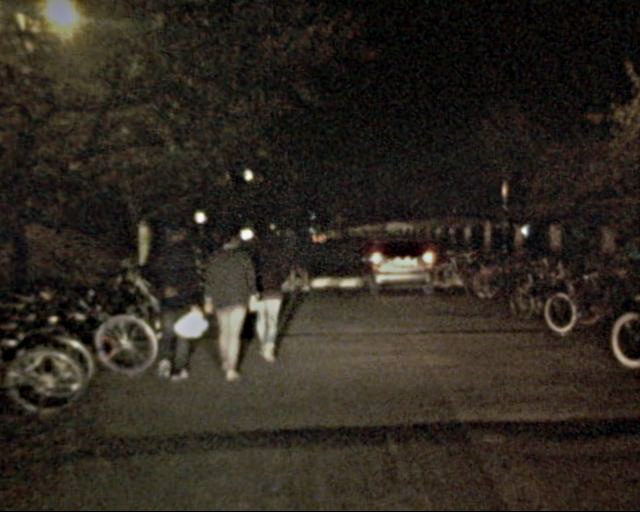person: (140, 218, 206, 383), (199, 225, 261, 382), (236, 227, 294, 362), (281, 221, 311, 299)
